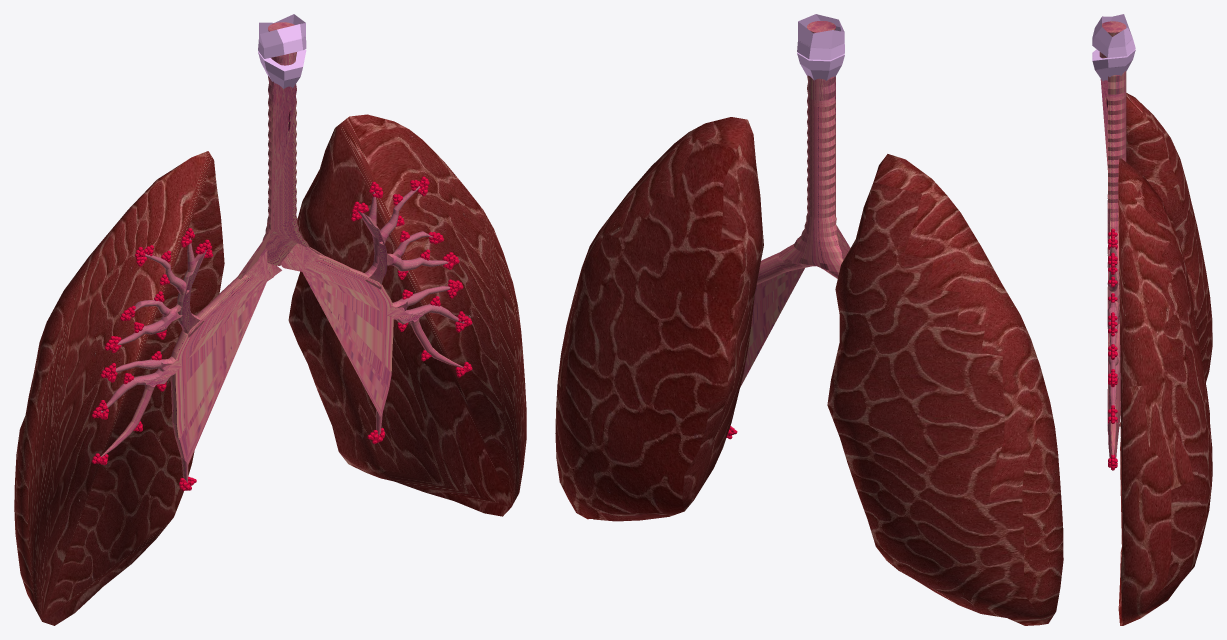
Rendered from LungsHalf.fbx.
3 renders of one model, left to right at view 1: azimuth 30°, elevation 25°; view 2: azimuth 150°, elevation 25°; view 3: azimuth 270°, elevation 25°, orthographic. The views are drawn at different scales.
Parts seen in each view (by area): view 1: LungR, LungL, MainBranch, AlveolusRL; view 2: LungL, LungR, MainBranch; view 3: LungR, LungL, MainBranch, AlveolusRL.
Boxes of the visible parts, box(x1,y1,x2,y2) form: LungR: box(288, 114, 526, 516); LungL: box(14, 151, 224, 625); MainBranch: box(101, 14, 464, 482); AlveolusRL: box(91, 176, 472, 490); LungL: box(827, 154, 1063, 625); LungR: box(555, 117, 763, 521); MainBranch: box(740, 14, 850, 387); LungR: box(1118, 157, 1212, 625); LungL: box(1119, 93, 1212, 426); MainBranch: box(1092, 14, 1135, 458); AlveolusRL: box(1108, 228, 1117, 470).
Size of the model in its own units: 358 by 378 by 81.63.
4 materials, 3 textured.
